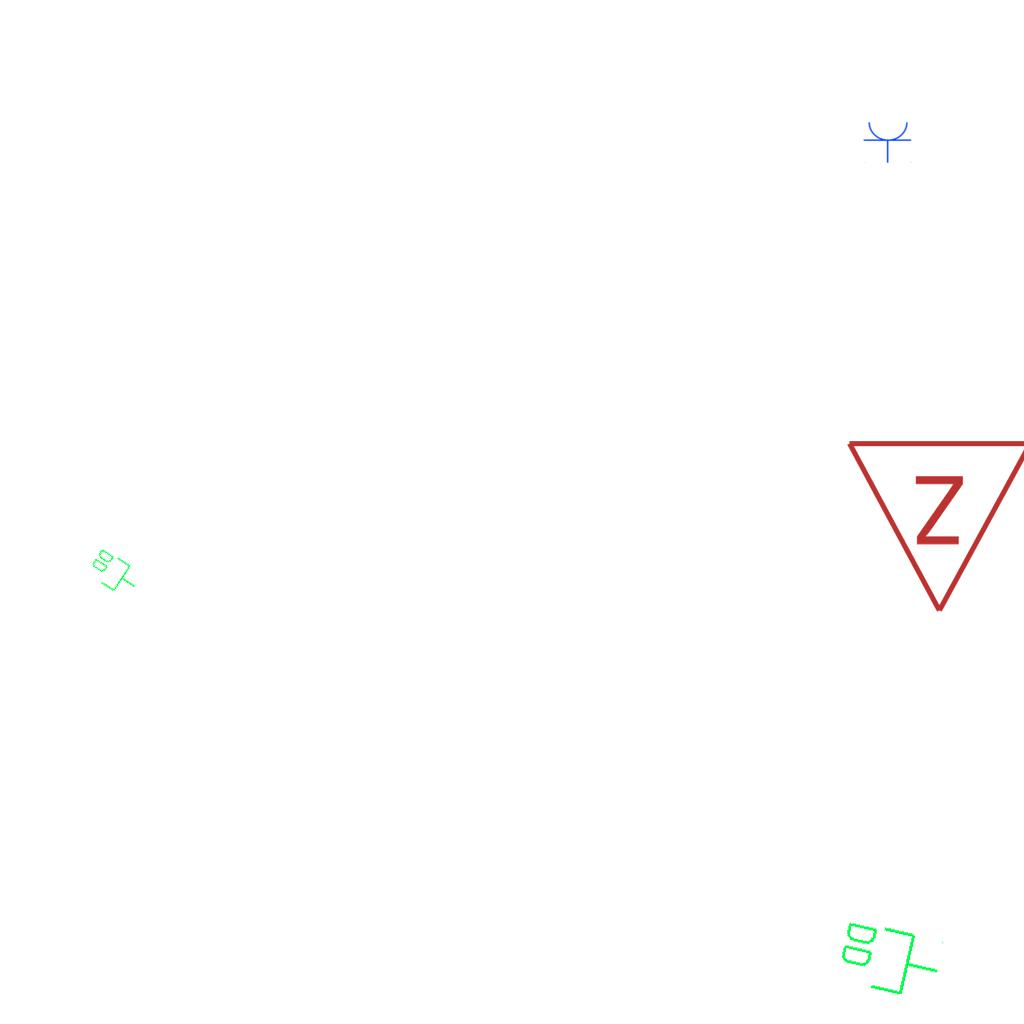Datenanschluss_zweifach: (831, 914, 948, 1005), (83, 544, 146, 602)
Schukosteckdose_einfach: (863, 120, 913, 163)
Zimmersignalleuchte: (844, 426, 1024, 626)
